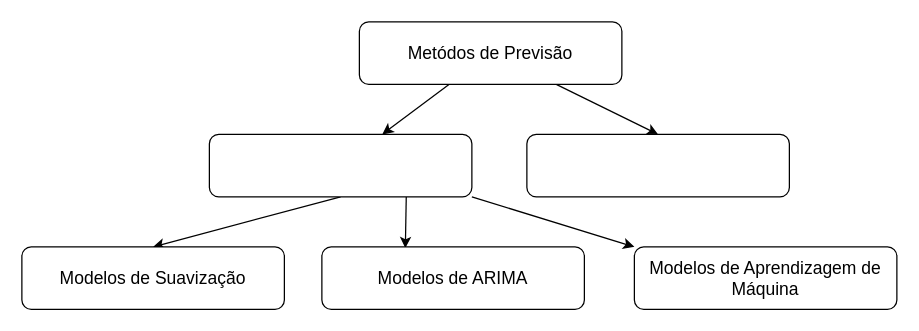
This 919x331 diagram has some shape labels left out. The shapes that lost their labels are listed below. From the top down, each one's box as (x1, y1, x2, y2) in pixels, then its label:
(208, 133, 472, 197): Séries Temporais
(526, 133, 789, 197): Modelos de Regressão
